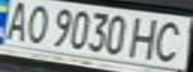0: (66, 7, 93, 52), (106, 11, 130, 57)
3: (87, 9, 112, 55)
9: (45, 4, 75, 47)
A: (0, 0, 33, 42)
C: (148, 18, 190, 63)
H: (127, 15, 163, 61)
O: (18, 1, 54, 44)
